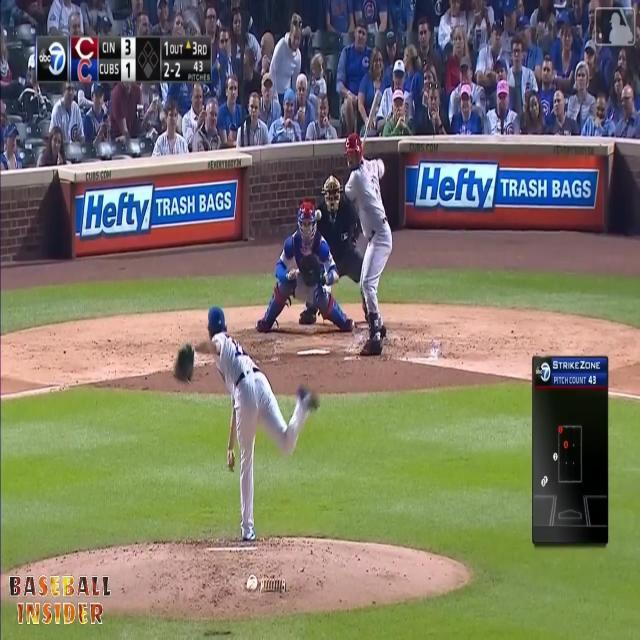baseball: (314, 207, 322, 222)
